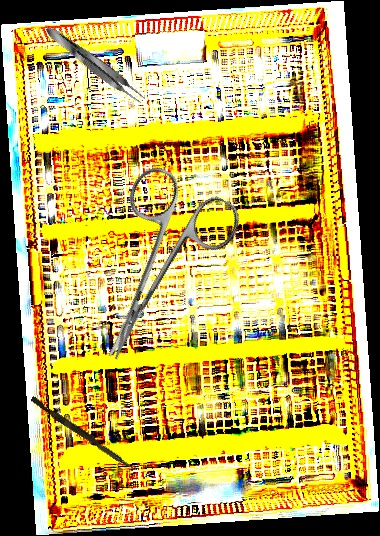Iris Scissors: (58, 160, 247, 382)
Pusher: (28, 395, 138, 472)
Tissue Forceps: (41, 21, 149, 108)
